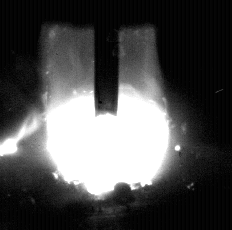arame: (95, 0, 120, 117)
poca: (46, 0, 171, 230)
